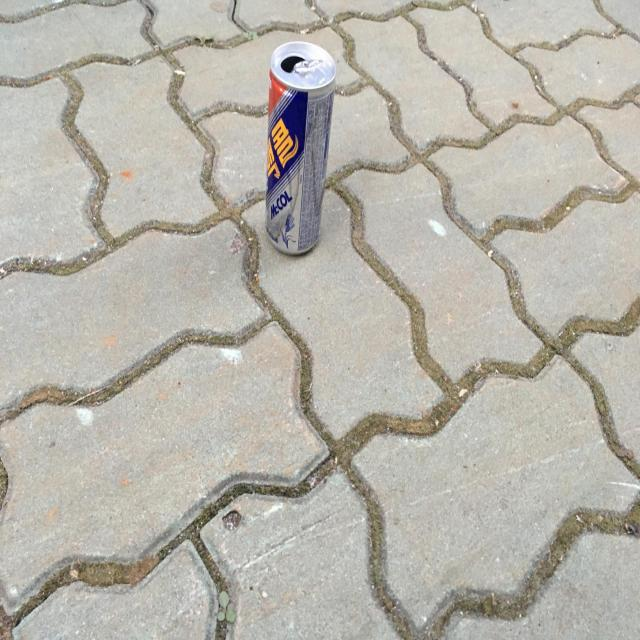can: (266, 40, 336, 254)
